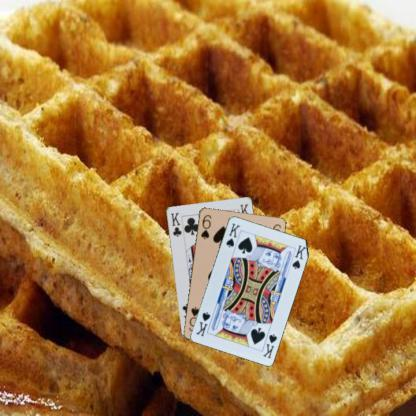6s: (198, 212, 212, 240)
Kc: (168, 210, 183, 238)
Ks: (223, 220, 242, 249), (260, 331, 278, 359)
